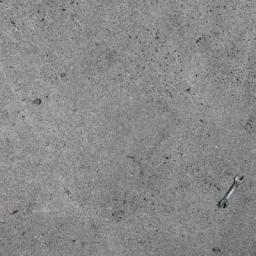FOD: (214, 172, 248, 211)
